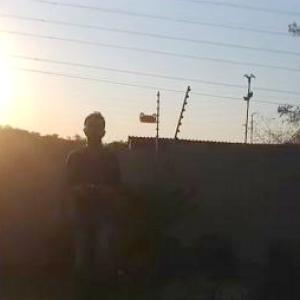follow: (57, 106, 125, 299)
